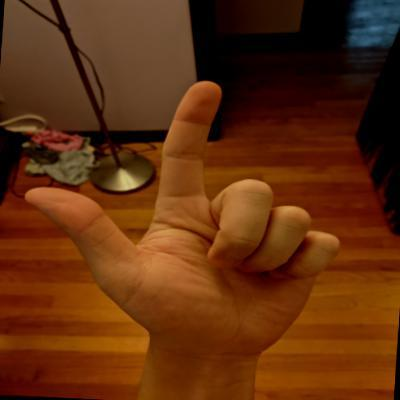hand: (10, 67, 358, 364)
